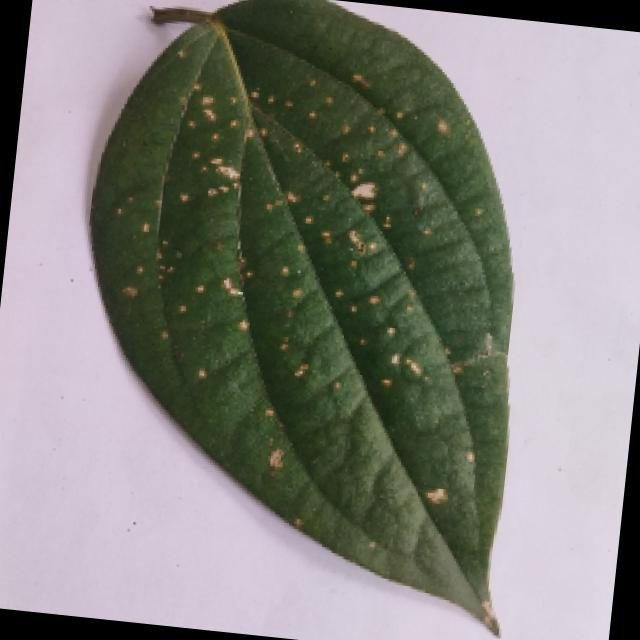pollu-disease: (51, 0, 552, 629)
